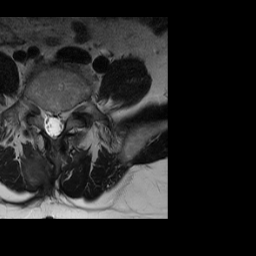CCS_normal: (50, 103, 57, 145)
LFS_stenosis: (65, 100, 73, 122)
LLS_normal: (57, 103, 65, 140)
RFS_stenosis: (34, 97, 43, 124)
RLS_normal: (43, 102, 50, 140)
